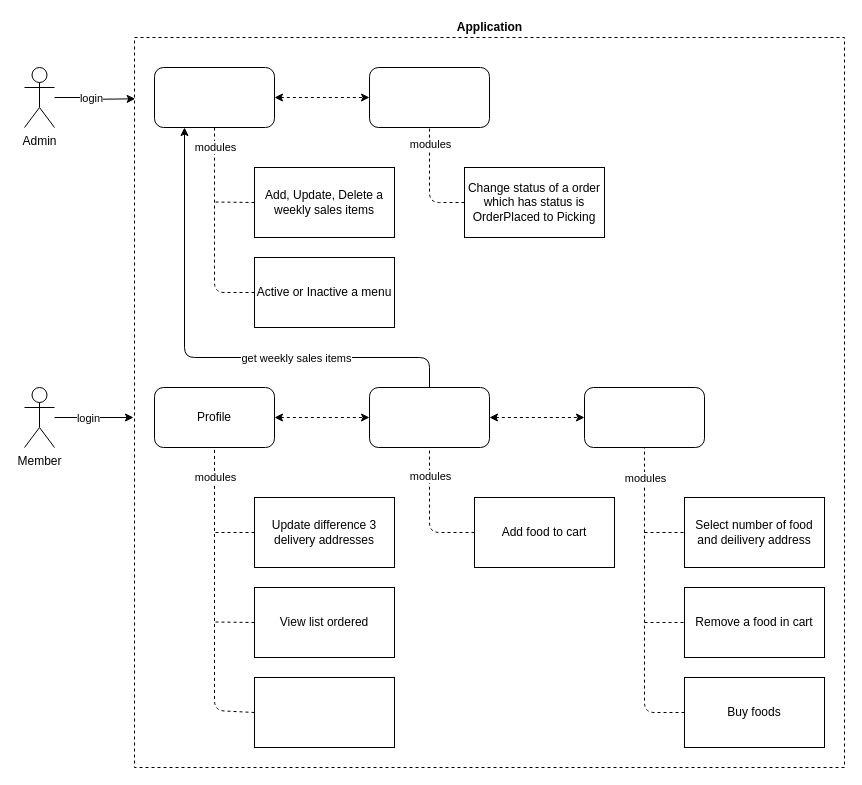
Image size: 862x785. Some labels were removed from this diagram. Here are the shapes that lost their labels. From the top down, the centre of each, then its label:
the point at 214,97: Menu catalogue
the point at 429,97: List Orders
the point at 429,417: List Foods
the point at 644,417: Cart
the point at 324,712: Change status of a order to Delivered
